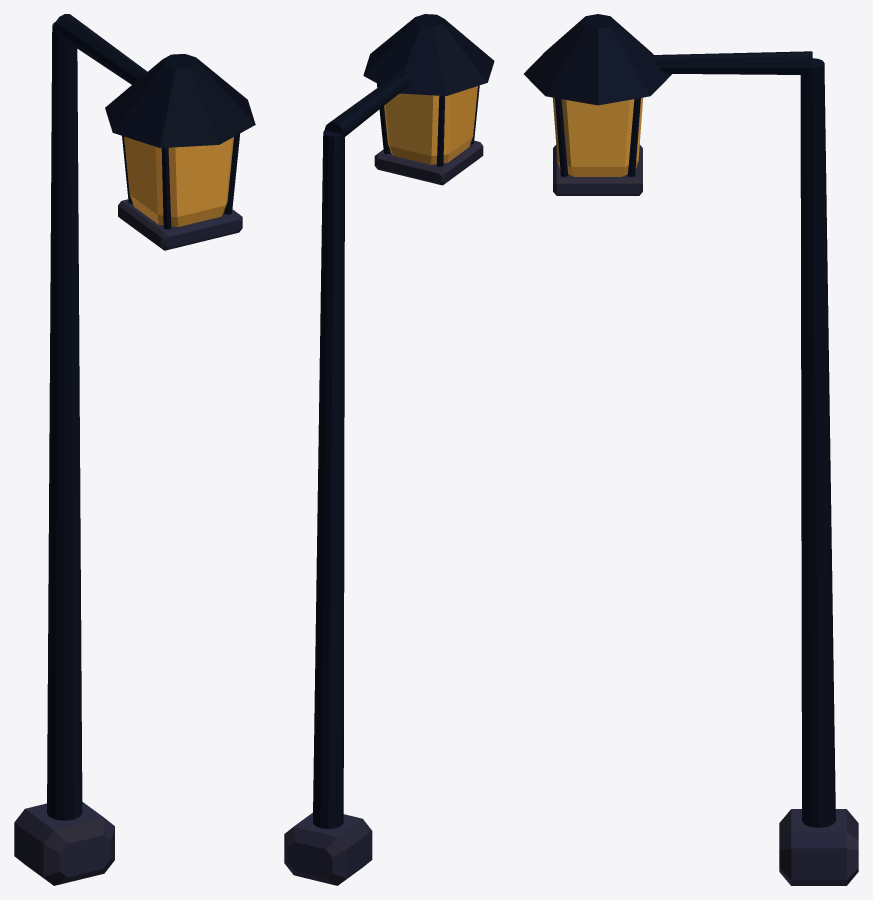
Rendered from HK_StreetLamp.fbx.
3 renders of one model, left to right at view 1: azimuth 30°, elevation 25°; view 2: azimuth 150°, elevation 25°; view 3: azimuth 270°, elevation 25°, orthographic. The views are drawn at different scales.
Parts seen in each view (by area): view 1: HK_StreetLamp_BodyMain; view 2: HK_StreetLamp_BodyMain; view 3: HK_StreetLamp_BodyMain.
Boxes of the visible parts, x1=… form: HK_StreetLamp_BodyMain: x1=14, y1=14, x2=255, y2=885; HK_StreetLamp_BodyMain: x1=284, y1=14, x2=494, y2=885; HK_StreetLamp_BodyMain: x1=524, y1=14, x2=858, y2=885.
Size of the model in its own units: 0.81 by 5.11 by 1.82.
